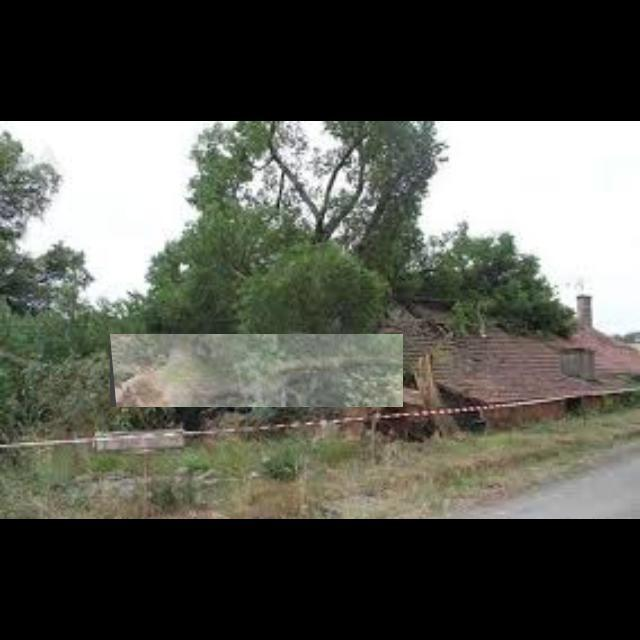fallen_tree: (110, 334, 404, 408)
